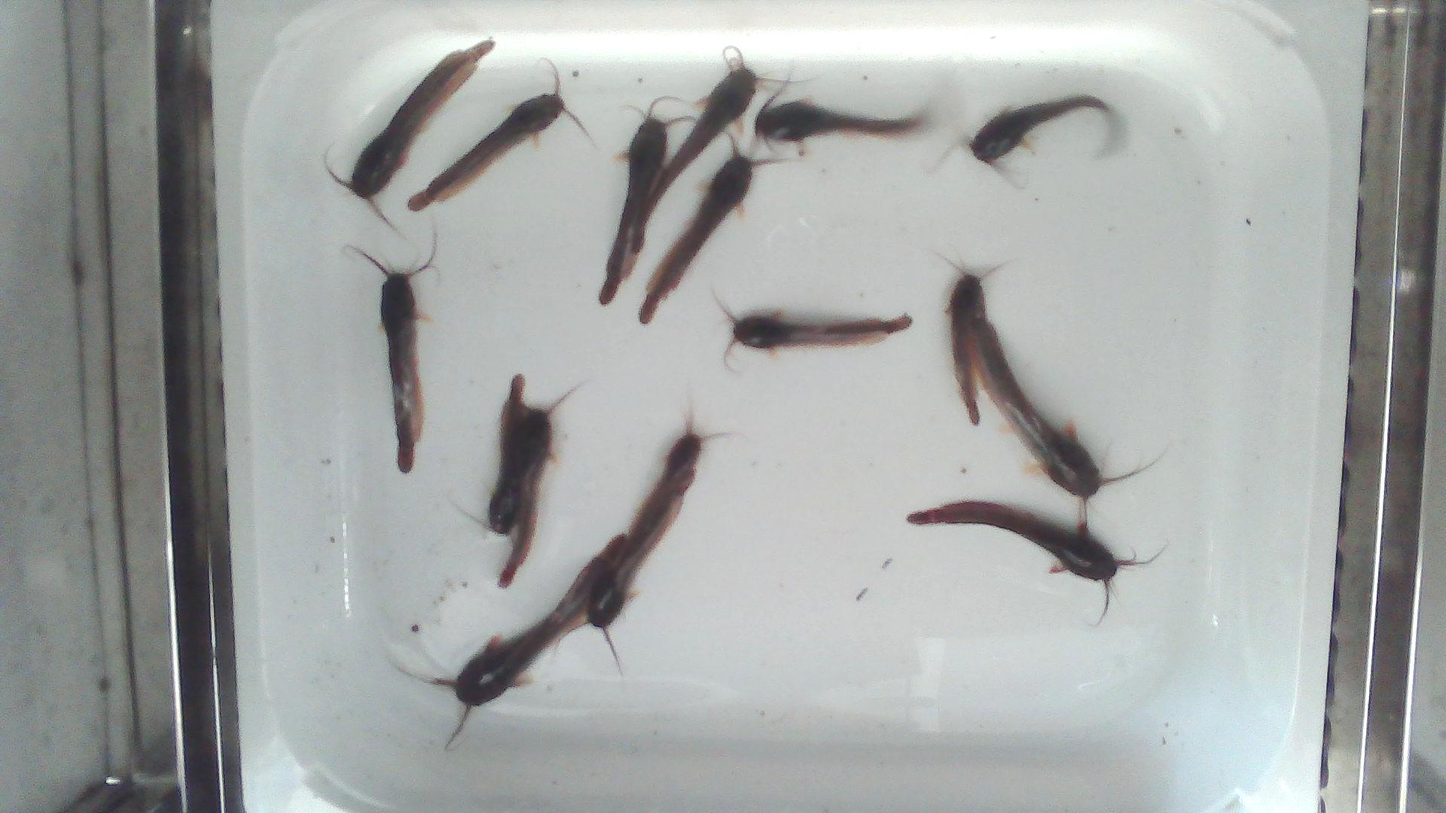lele: (398, 533, 625, 748), (971, 318, 1169, 526), (907, 500, 1152, 624), (632, 49, 774, 256), (336, 41, 493, 227), (407, 59, 585, 211), (570, 464, 697, 658), (639, 136, 769, 323), (600, 101, 690, 309), (609, 408, 718, 566), (352, 248, 425, 473), (497, 389, 577, 590), (713, 294, 912, 366), (969, 96, 1112, 165), (943, 256, 1001, 426), (754, 91, 925, 142), (475, 374, 526, 536)
